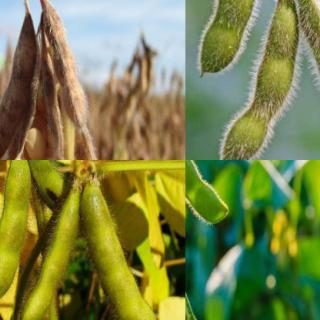soya: (220, 0, 298, 159), (81, 182, 157, 320), (18, 182, 82, 320), (0, 12, 36, 159), (43, 4, 86, 124), (199, 0, 261, 75), (0, 160, 30, 307), (186, 160, 230, 227), (299, 0, 319, 147), (28, 160, 65, 204), (75, 128, 118, 159)
